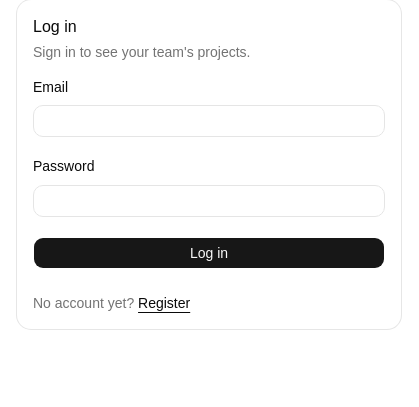
LoginPage › shows a connection message and re-enables the button when the request fails
This screenshot has width=419, height=407.
Type " ada@example.com " into the field labelled "Email". click: (209, 121)
box: [33, 105, 385, 137]
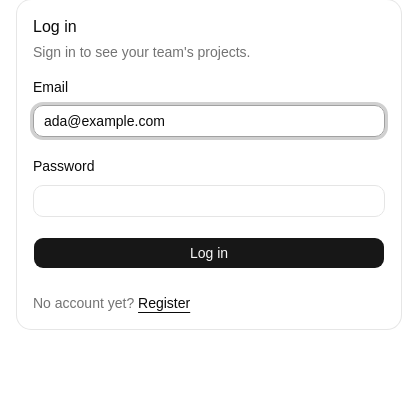
Type "correct horse" into the password field labelled "Password". click: (209, 200)
box: [33, 184, 385, 216]
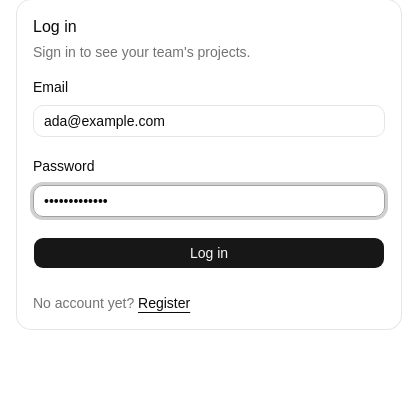
Click the button "Log in". click: (209, 252)
box: [33, 236, 385, 268]
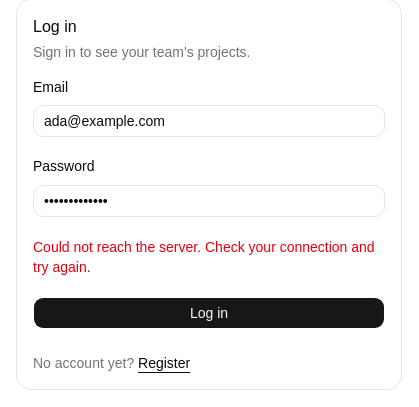
Expected: the button "Log in" is enabled, [33, 296, 385, 328]
Expected: the text "Could not reach the server. Check your connection and try again." is shown, [33, 236, 385, 276]
